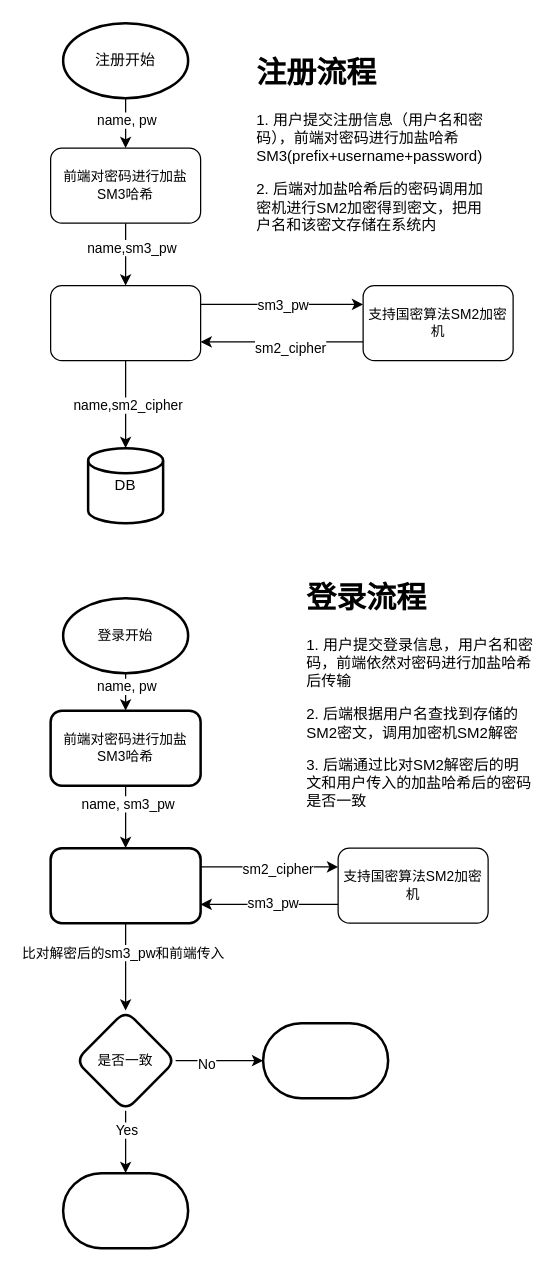
Image size: 560x1270. Some labels were removed from this diagram. Here are the shapes that lost their labels. From the top down, the centre of each, then its label:
At (x=125, y=322): "后端把密码传入加密机进行SM2加密".
At (x=125, y=885): "后端通过用户名获取密码，传入加密机进行SM2解密".
At (x=325, y=1060): "登录失败".
At (x=125, y=1210): "登录成功".
